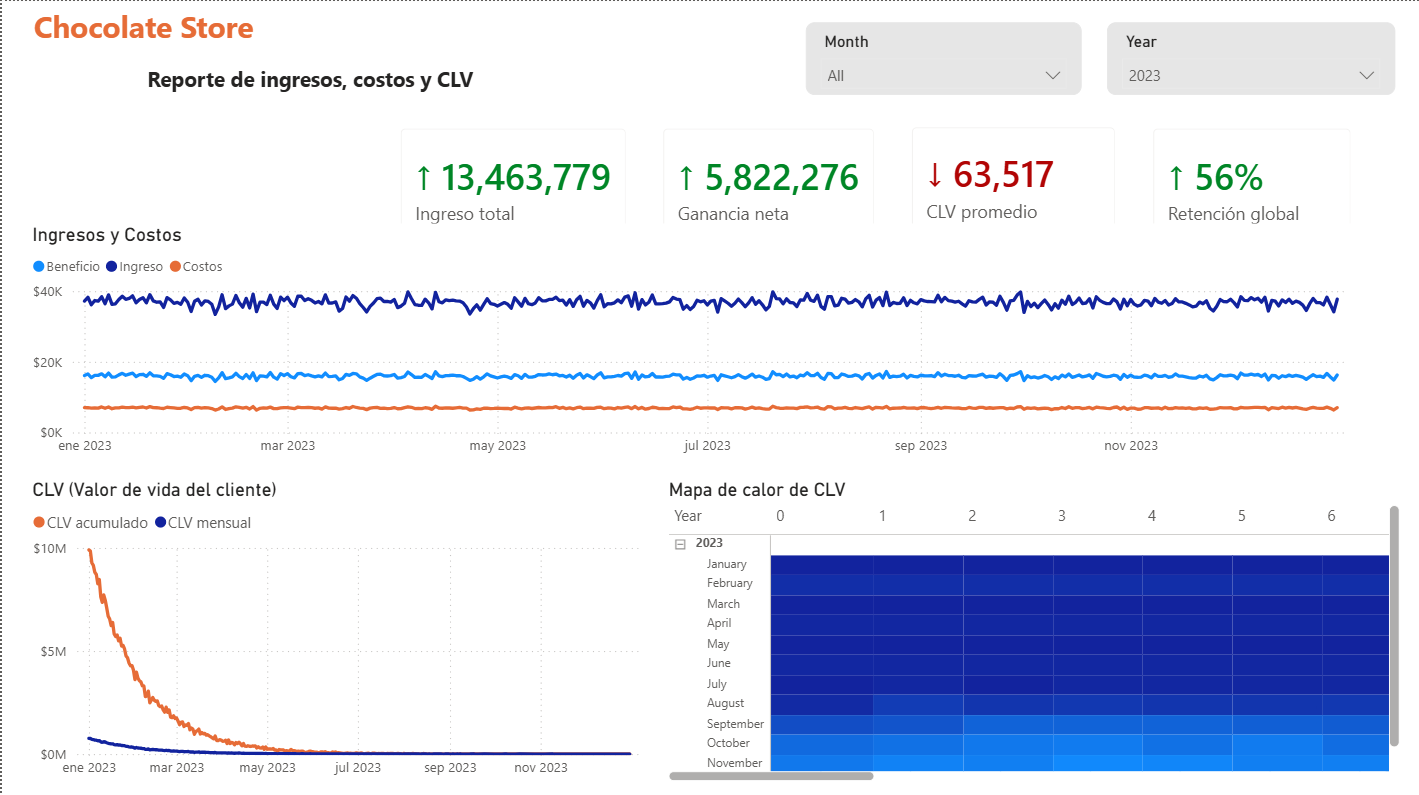

The dashboard page shown, as its layout file describes it:
{"tool":"powerbi","page":{"name":"Page 1","canvas":[1280,720],"ordinal":0},"visuals":[{"type":"cardVisual","title":"Ingreso total","fields":{"Data":["revenue_per_country (3).revenueTendencia"]},"box":[342.6,98.1,231.1,139.8],"z":0},{"type":"cardVisual","fields":{"Data":["monthly_cohort (2).CLVtendencia"]},"box":[803.5,97.5,217.4,137.2],"z":1000},{"type":"cardVisual","fields":{"Data":["revenueCOUNTRY.profitTendencia"]},"box":[579.3,97.9,224.4,139.5],"z":2000},{"type":"cardVisual","fields":{"Data":["monthly_retention.Retention_Tendencia"]},"box":[1021.2,97.7,212.8,139.5],"z":3000},{"type":"lineChart","title":"Ingresos y Costos","fields":{"Y":["Sum(revenueCOUNTRY.profit)","Sum(revenueCOUNTRY.revenue)","Sum(unit_COSTPERPRODUCT.unit_cost)"],"Category":["calendar.date.Variation.Date Hierarchy.Year","calendar.date.Variation.Date Hierarchy.Quarter","calendar.date.Variation.Date Hierarchy.Month","calendar.date.Variation.Date Hierarchy.Day"]},"box":[22.1,201.2,1211.6,218.6],"z":4000},{"type":"slicer","fields":{"Values":["calendar.date.Variation.Date Hierarchy.Month"]},"box":[724.7,19.2,249.1,65.4],"z":5000},{"type":"pivotTable","title":"Mapa de calor de CLV","fields":{"Rows":["calendar.date.Variation.Date Hierarchy.Year","calendar.date.Variation.Date Hierarchy.Month"],"Values":["Sum(monthly_cohort (2).total_monthly_clv)"],"Columns":["monthlyCOHORT.cohort_month"]},"box":[596.5,430.2,668.6,277.9],"z":6000},{"type":"lineChart","title":"CLV (Valor de vida del cliente)","fields":{"Category":["calendar.date.Variation.Date Hierarchy.Year","calendar.date.Variation.Date Hierarchy.Quarter","calendar.date.Variation.Date Hierarchy.Month","calendar.date.Variation.Date Hierarchy.Day"],"Y":["Sum(monthlyCOHORT.total_clv)","Sum(monthlyCOHORT.total_monthly_clv)"]},"box":[22.5,430.6,573.7,278.4],"z":7000},{"type":"slicer","fields":{"Values":["calendar.date.Variation.Date Hierarchy.Year"]},"box":[996.4,19.2,260.4,65.4],"z":8000},{"type":"textbox","box":[23.3,0,512.8,112.8],"z":9000}]}

Visuals, with their boxes in screenshot pixels (x1, y1, x2, y2), scaled from the page's 1280x720 canvas onto the 1419x795 screenshot:
"Ingreso total" cardVisual: 380/108/636/263
cardVisual - monthly_cohort (2).CLVtendencia: 891/108/1132/259
cardVisual - revenueCOUNTRY.profitTendencia: 642/108/891/262
cardVisual - monthly_retention.Retention_Tendencia: 1132/108/1368/262
"Ingresos y Costos" lineChart: 24/222/1368/464
slicer - calendar.date.Variation.Date Hierarchy.Month: 803/21/1080/93
"Mapa de calor de CLV" pivotTable: 661/475/1402/782
"CLV (Valor de vida del cliente)" lineChart: 25/475/661/783
slicer - calendar.date.Variation.Date Hierarchy.Year: 1105/21/1393/93
textbox: 26/0/594/125
